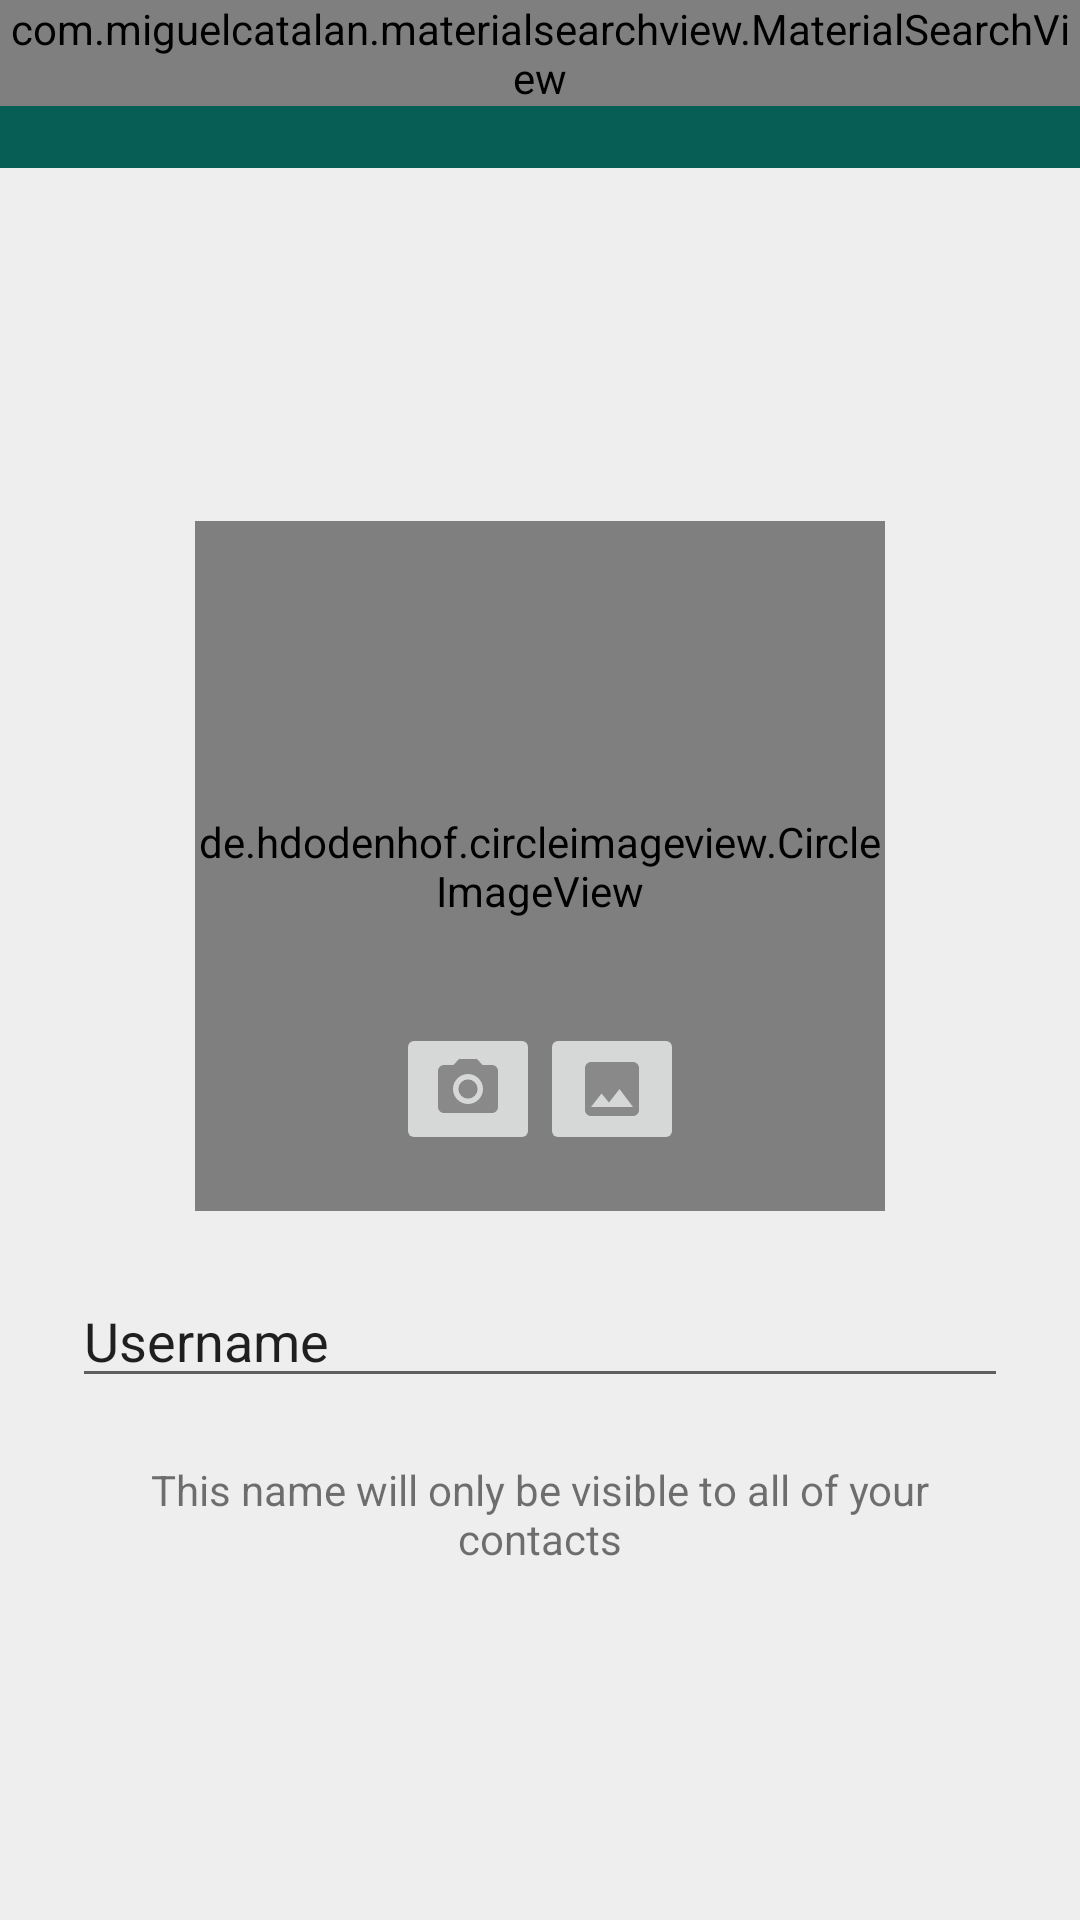

Screen size 1080px×1920px. Icon name, then its center in pixels as point (x, y):
photo: point (612, 1089)
photo camera: point (468, 1089)
